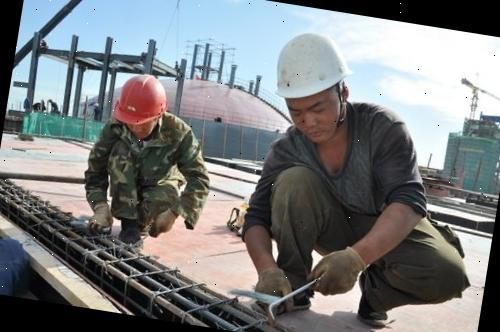helmet: (258, 27, 352, 109), (103, 68, 175, 132)
no_wear: (261, 106, 414, 256), (82, 122, 199, 227)
